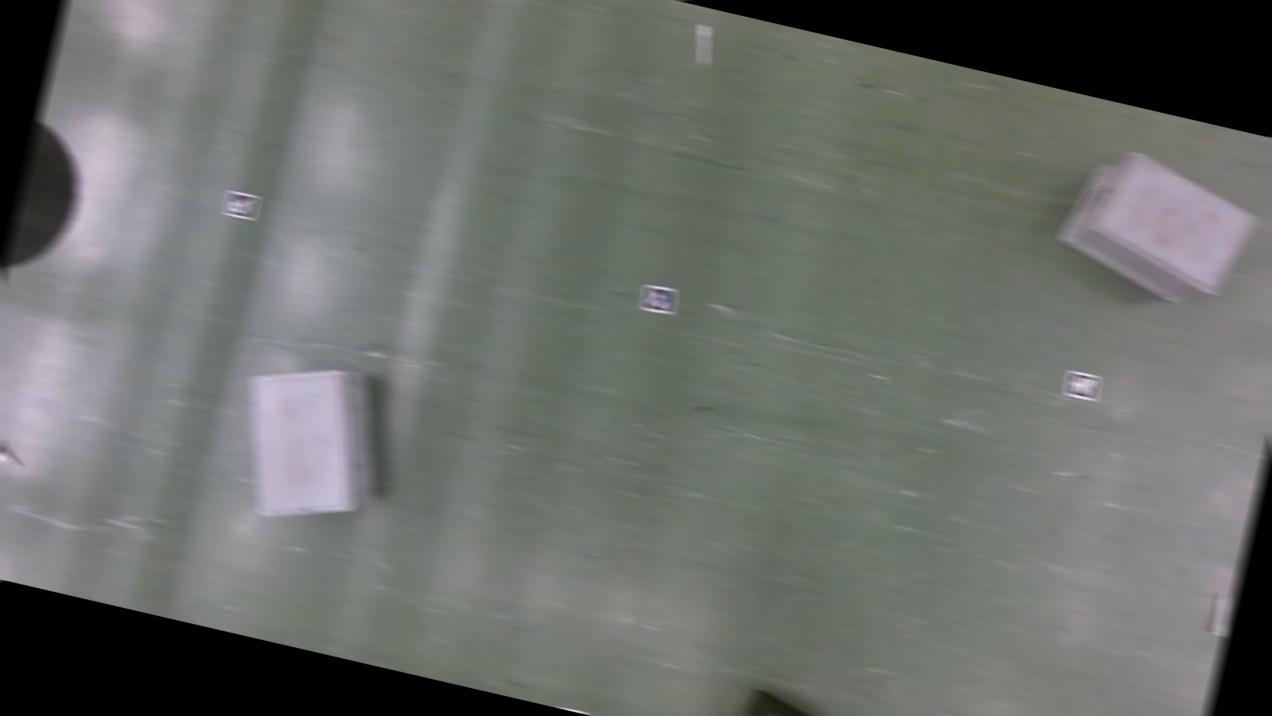probes: (1209, 589, 1236, 636), (690, 22, 716, 67), (0, 428, 27, 465)
rako: (1043, 139, 1271, 316), (220, 343, 408, 544), (722, 684, 864, 716)
